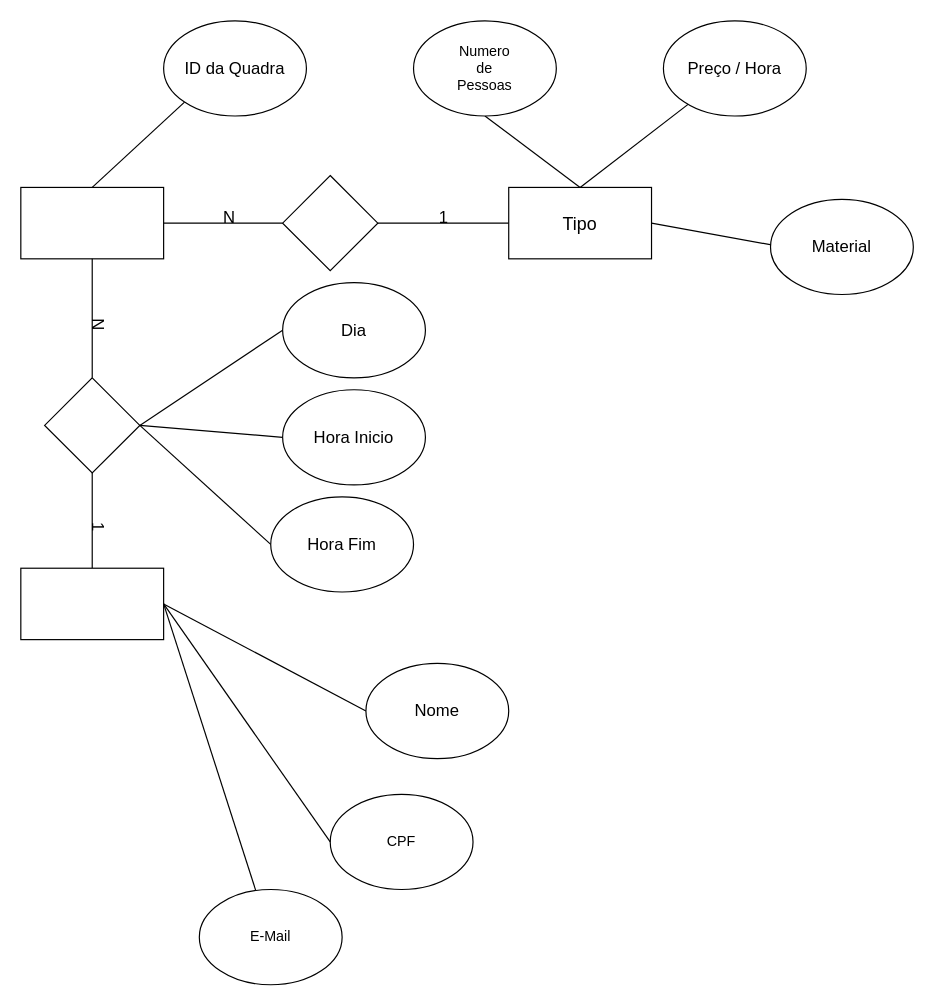
Some shapes in this 934 by 1006 pixel diagram are drawn without their labels. The centre of each missing label's shape, as x and y in pixels:
Aluga: [91,425]
Cliente: [92,603]
Quadras: [92,222]
Tem: [329,222]
